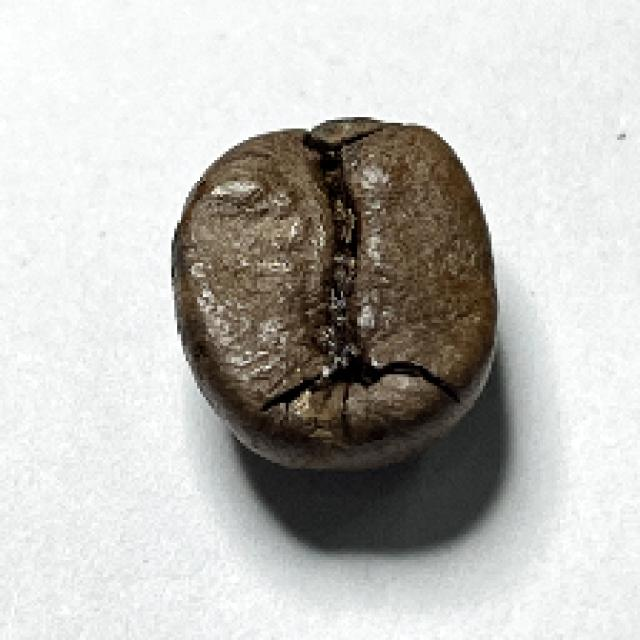bean: (168, 119, 503, 472)
